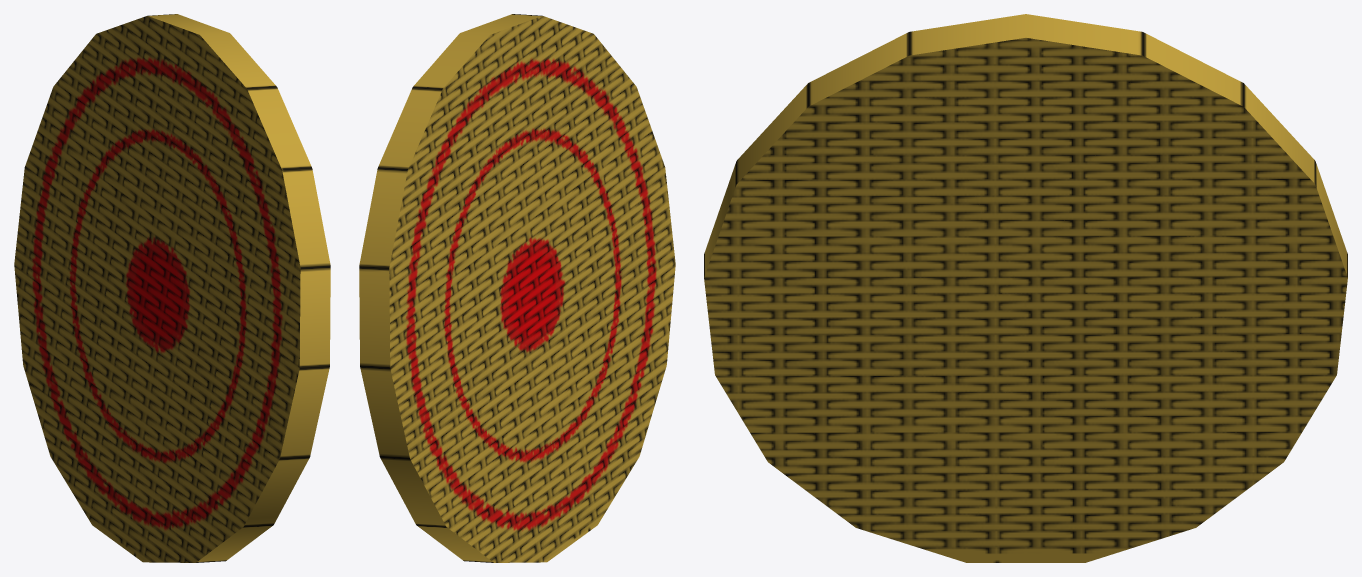
Rendered from Archery_Target.fbx.
3 renders of one model, left to right at view 1: azimuth 30°, elevation 25°; view 2: azimuth 150°, elevation 25°; view 3: azimuth 270°, elevation 25°, orthographic. The views are drawn at different scales.
Parts seen in each view (by area): view 1: Archery_target; view 2: Archery_target; view 3: Archery_target.
Boxes of the visible parts, x1,y1,x2,y2 form: Archery_target: (14,14,330,562); Archery_target: (359,14,675,562); Archery_target: (704,14,1347,562).
Bounding box in the file's own units: 36.71 × 154 × 155.
